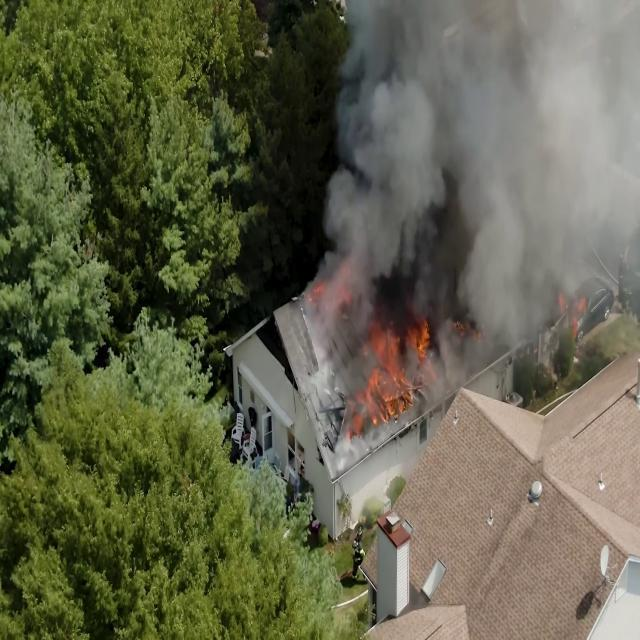Smoke: (466, 40, 602, 297), (348, 322, 432, 451)
